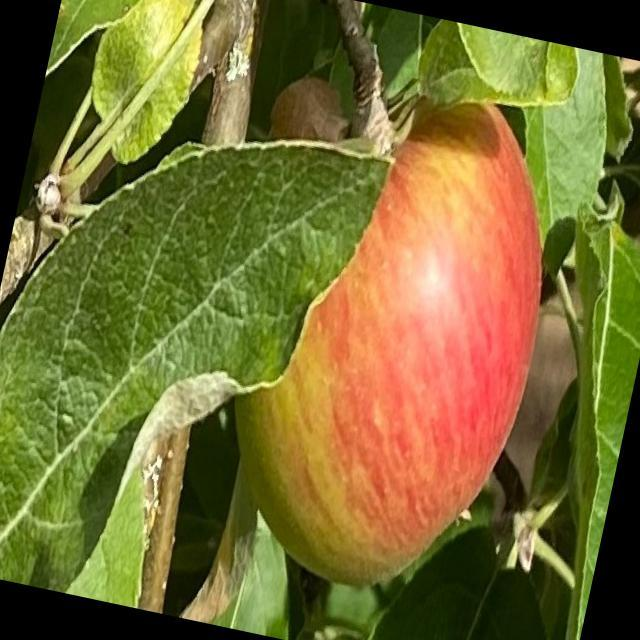100-_ripeness: (204, 64, 579, 610)
